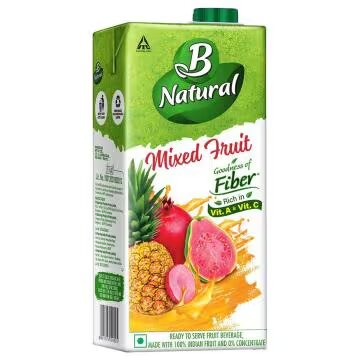veg: (134, 333, 149, 350)
